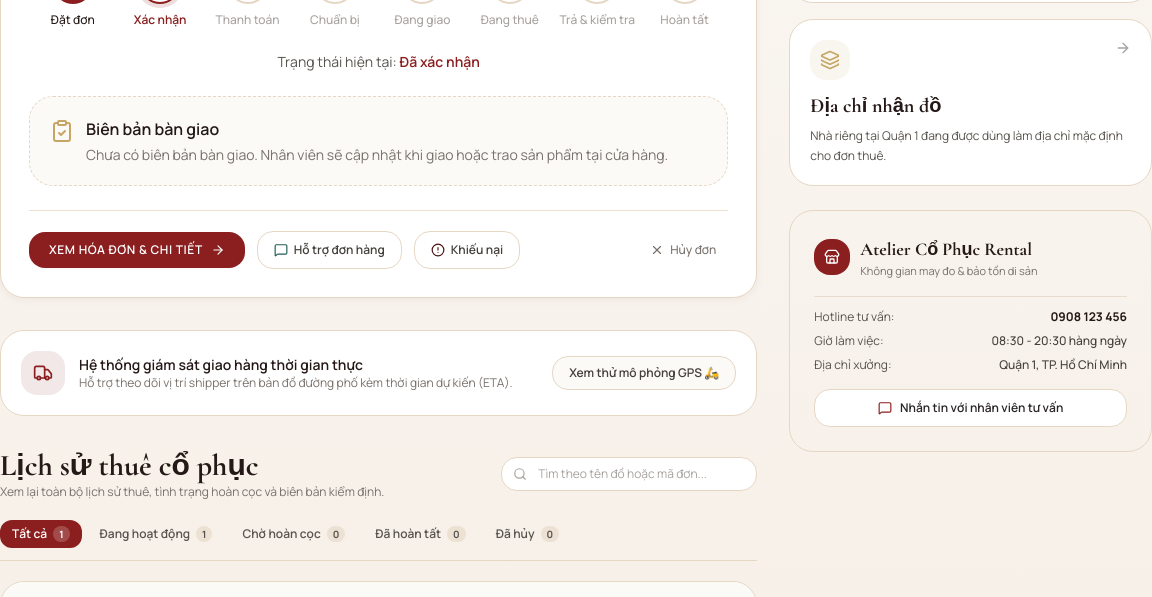
CustomerDashboardPage › handles booking cancellation via confirmation modal
This screenshot has width=1152, height=597.
(page scrolled)
Step 1. Click the button "Hủy đơn" → (683, 250), box [638,234,728,266]
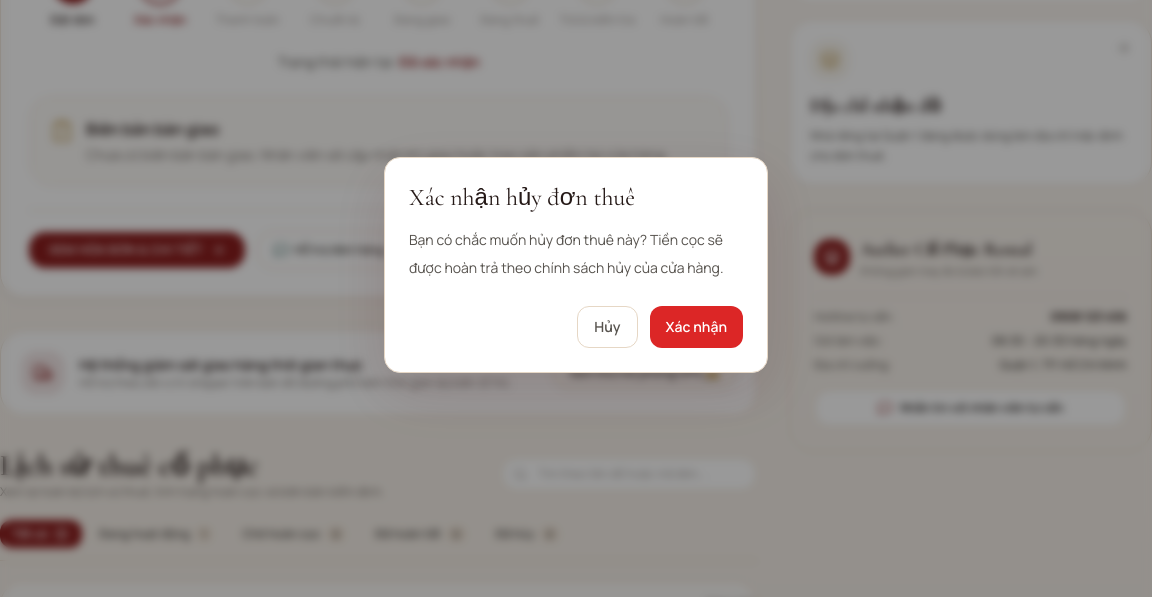
expect the heading "Xác nhận hủy đơn thuê" is shown: met, box [409,183,635,212]
Step 2. Click the button "Xác nhận" → (696, 327), box [650,306,743,348]
(page scrolled)
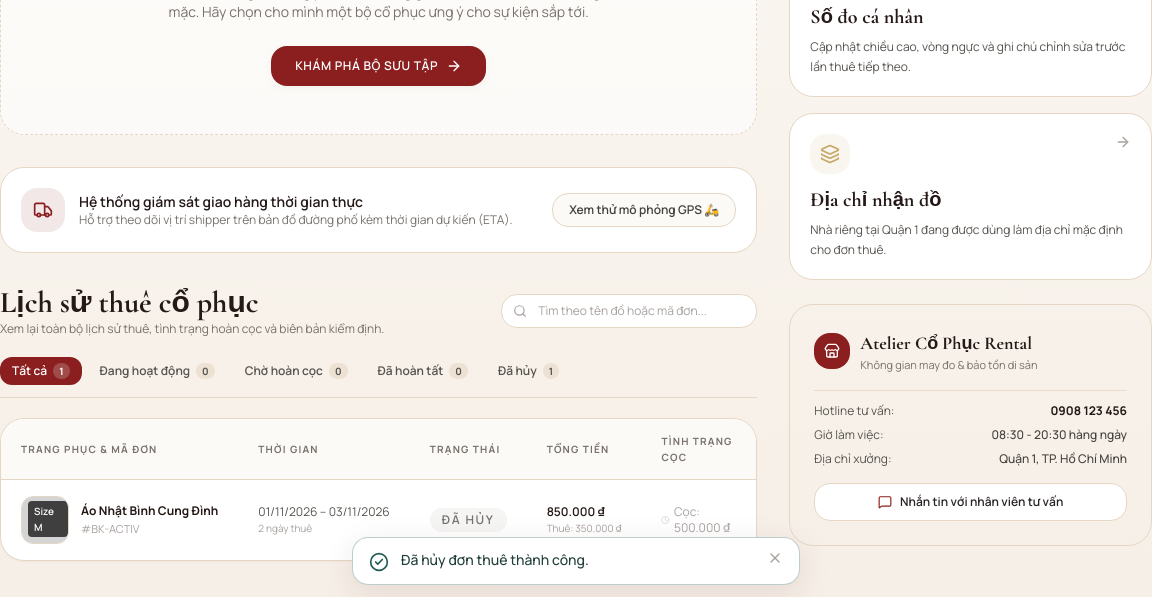
expect the text "Đã hủy đơn thuê thành công." is shown: met, box [401,550,589,569]
